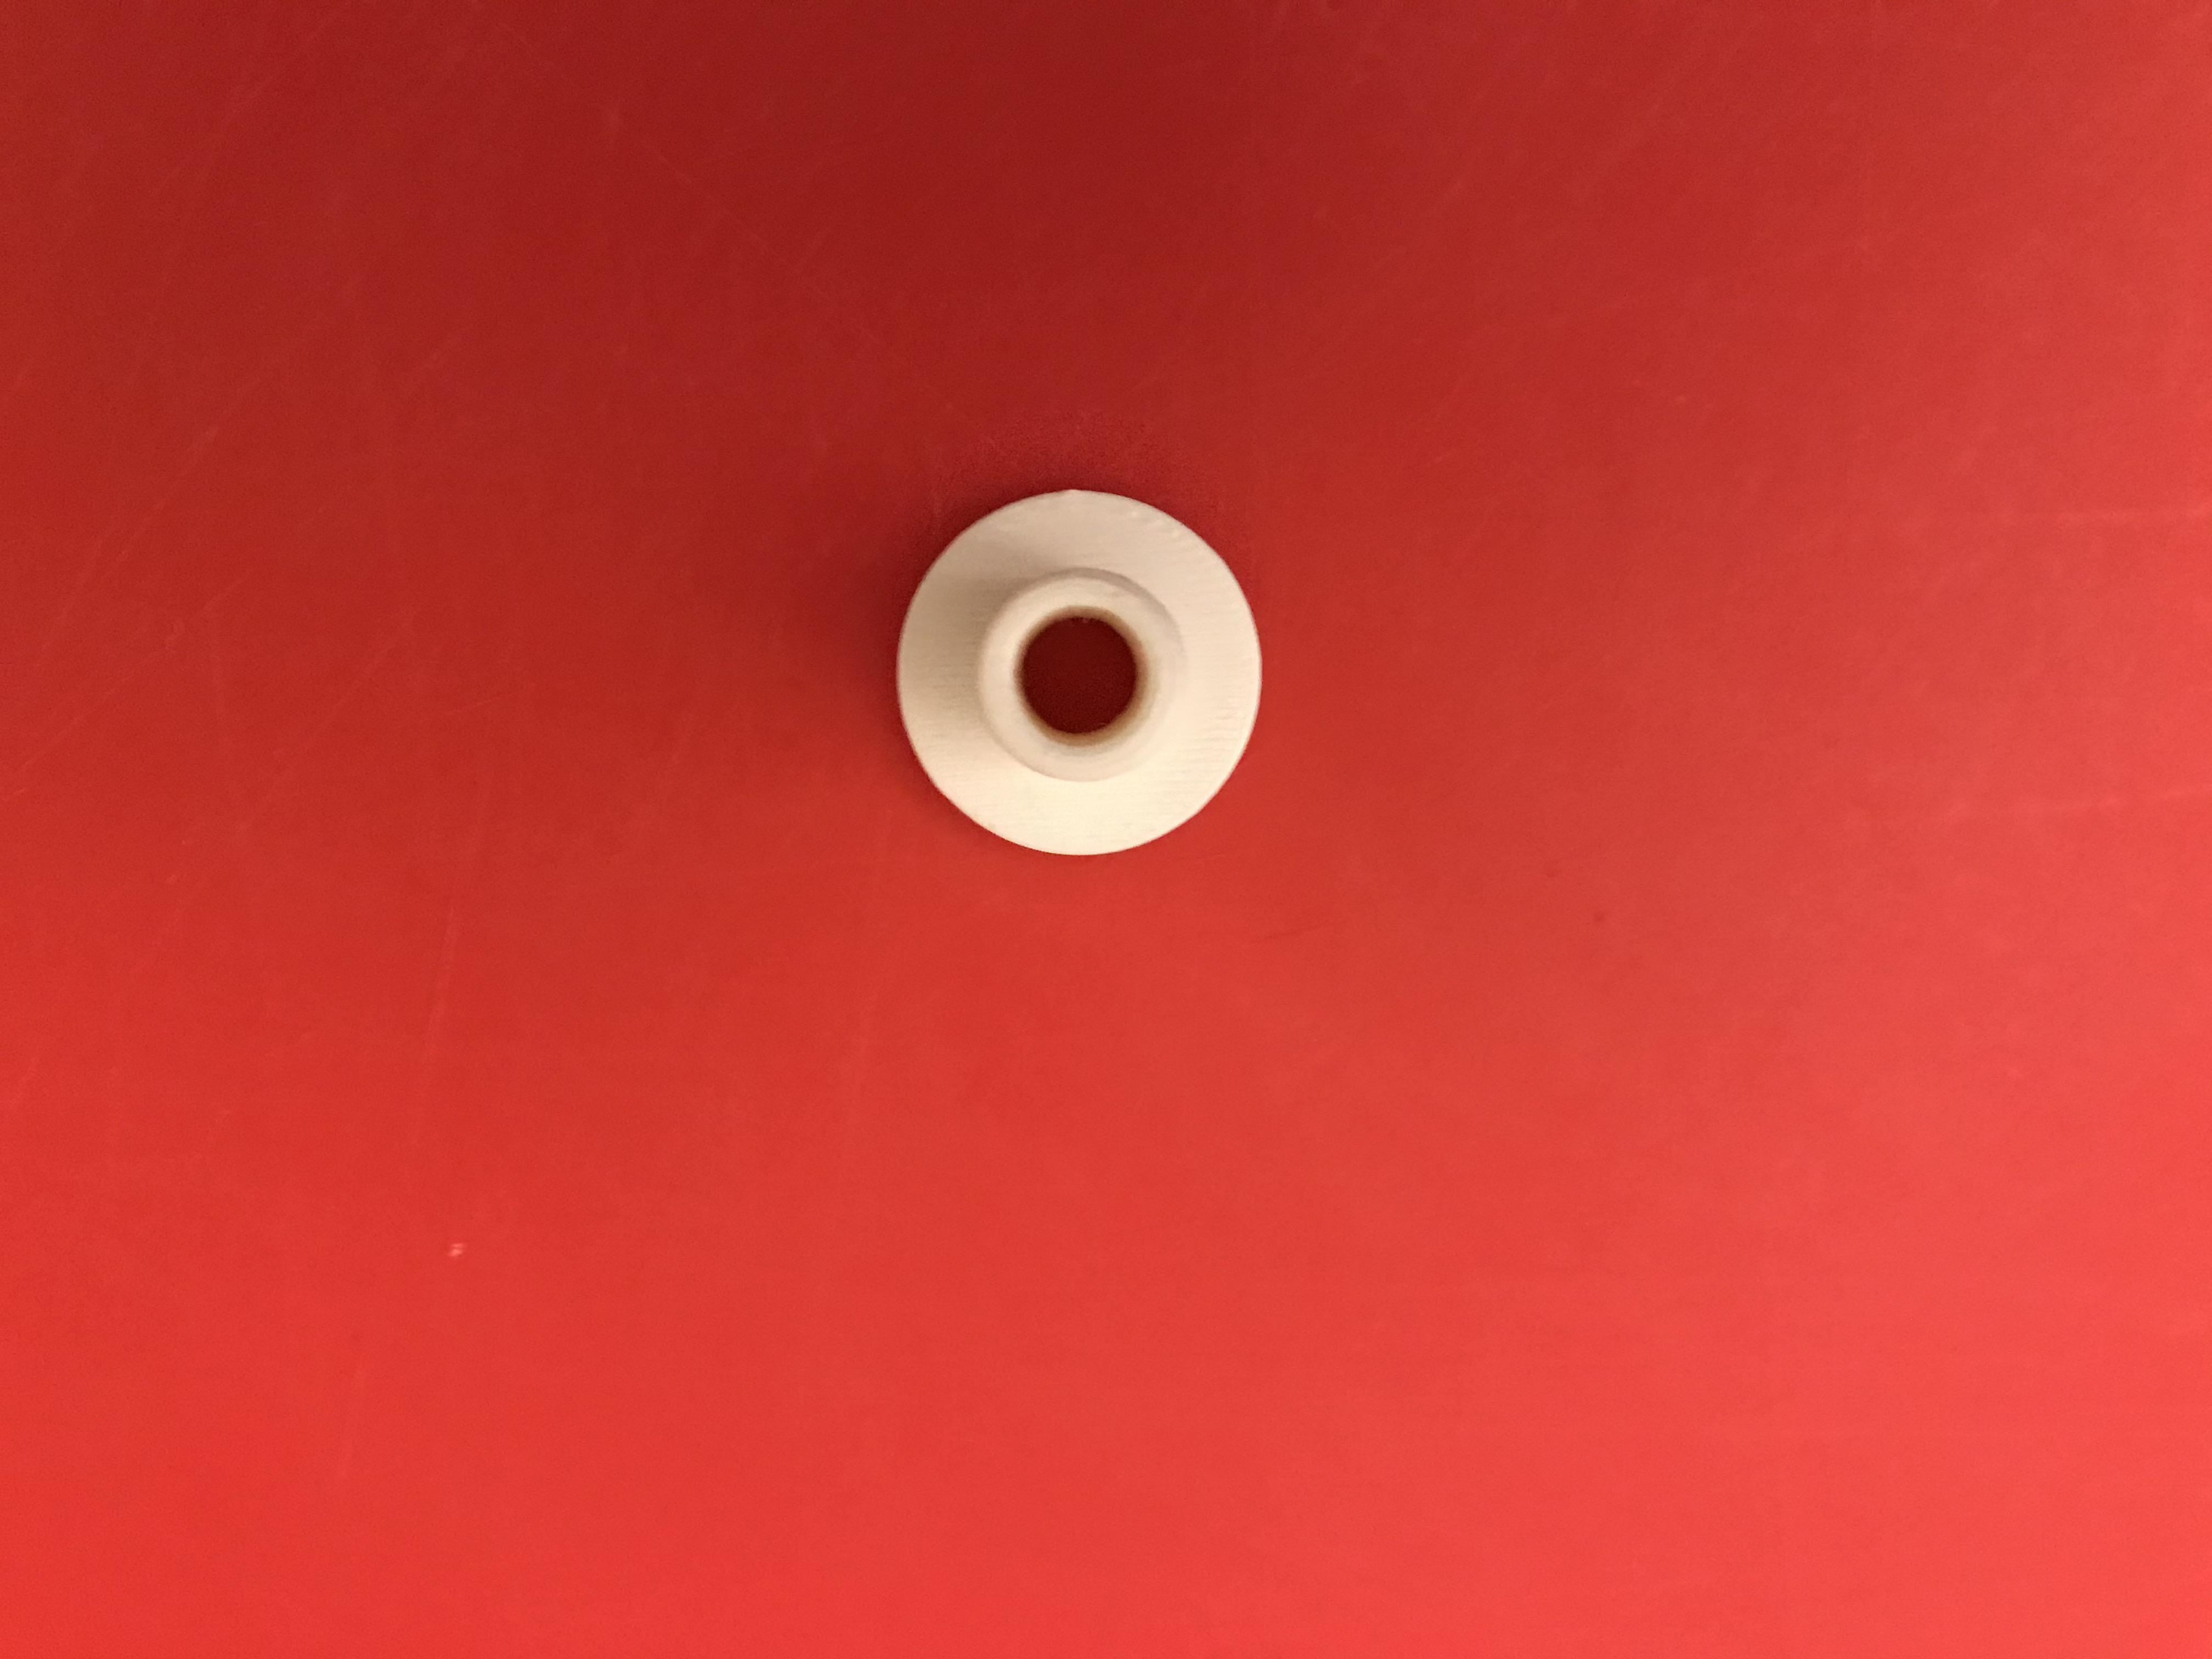White Cone: (883, 479, 1264, 868)
